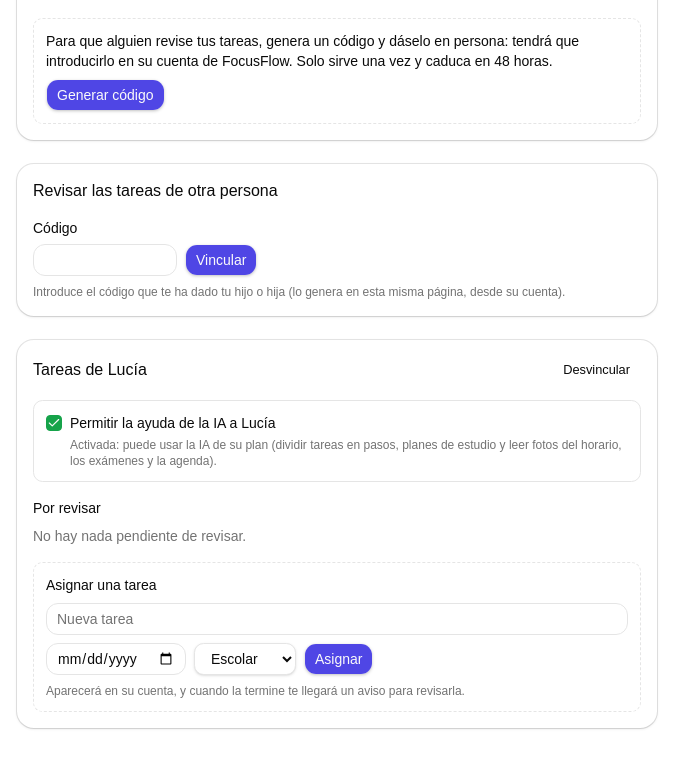
Test: PaginaFamilia › asigna una tarea nueva a la persona supervisada
The width and height of the screenshot is (675, 768).
(page scrolled)
Type "Leer el capítulo 3" into the field named "Tarea que quieres asignar".
click(337, 619); type("Leer el capítulo 3")  # box [46,603,628,635]
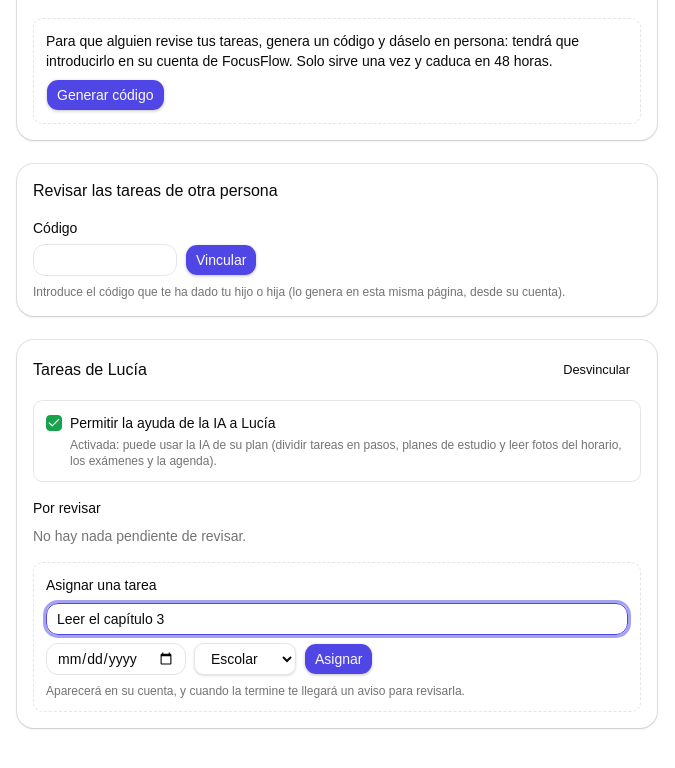
Click the button "Asignar".
click(339, 659)  # box [304,643,374,675]
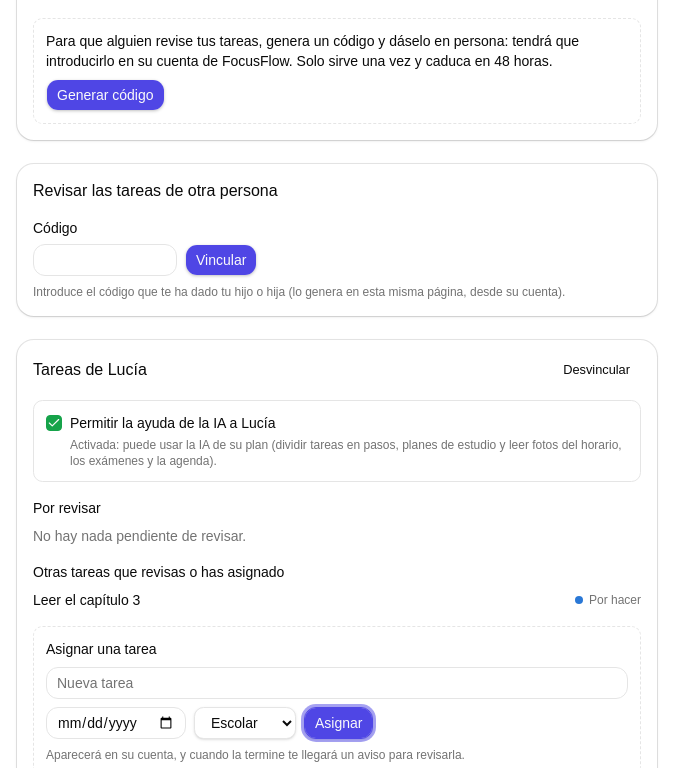
Check: the text "Leer el capítulo 3" is shown, box [33,590,140,610]
